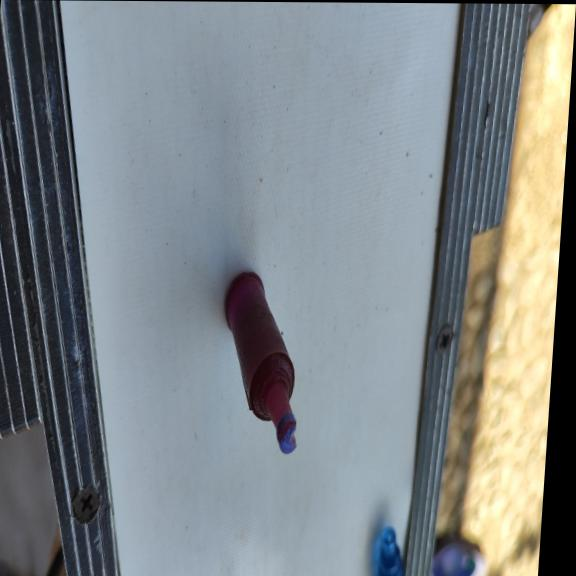Plastik: (211, 268, 309, 456)
